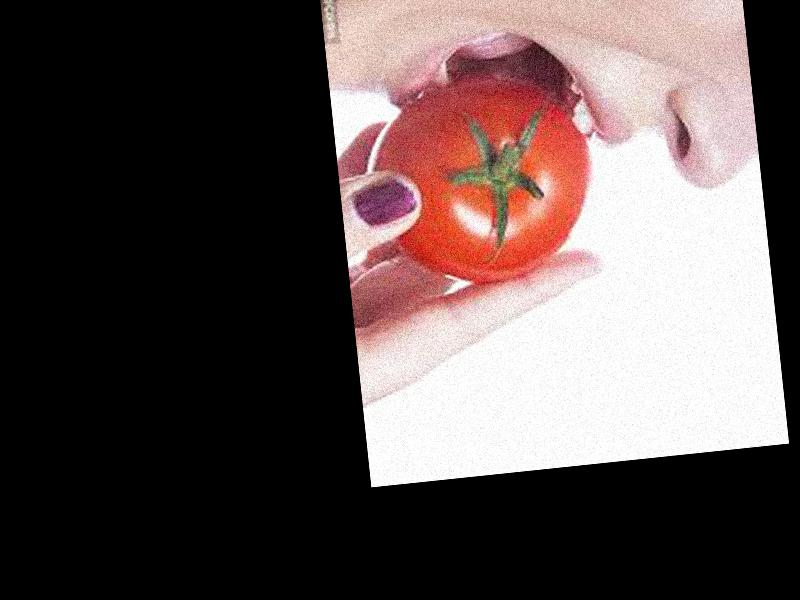Tomato: (359, 69, 601, 294)
